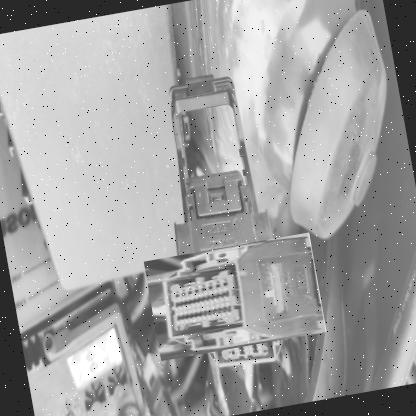Connector: (154, 216, 312, 374)
